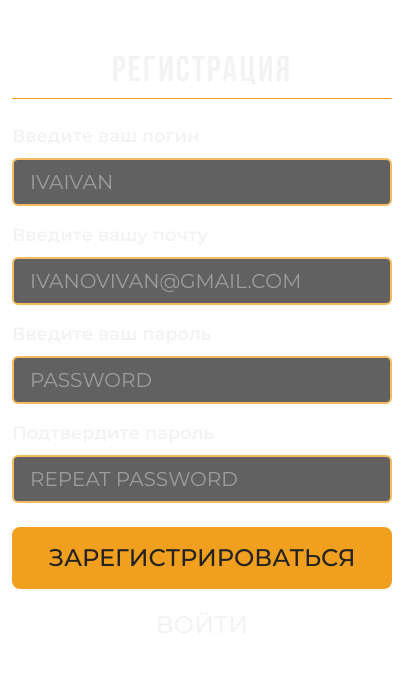
Test: Login Form component › Correctly validate fields
Click the button "Зарегистрироваться" at (202, 558), box x1=12 y1=527 x2=392 y2=589
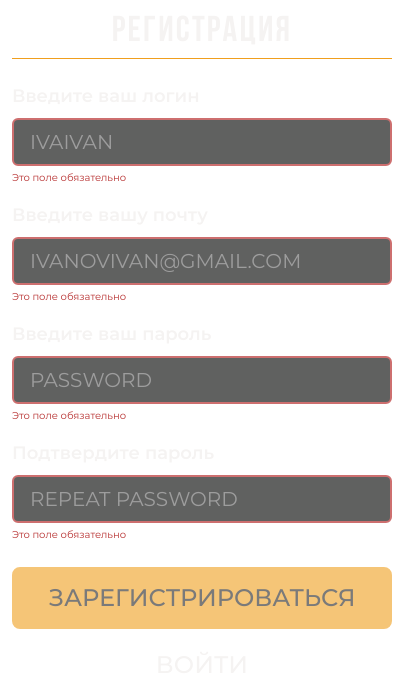
Result: the button "Зарегистрироваться" is disabled at x1=12 y1=567 x2=392 y2=629
